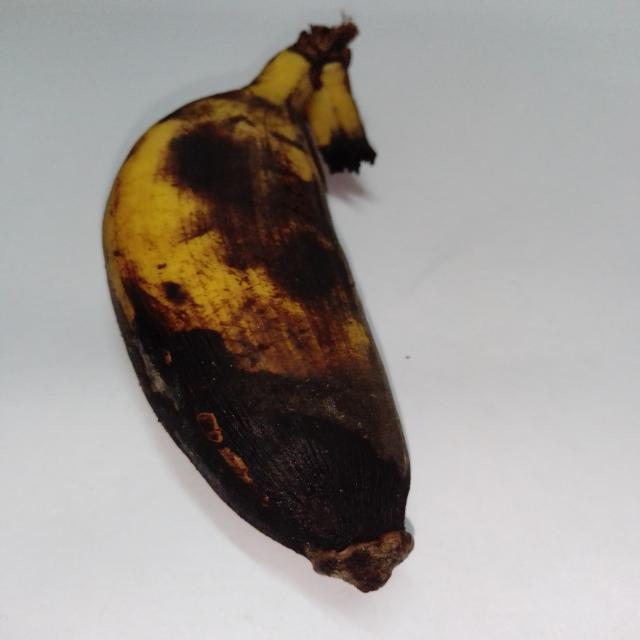banana: (104, 22, 413, 591)
